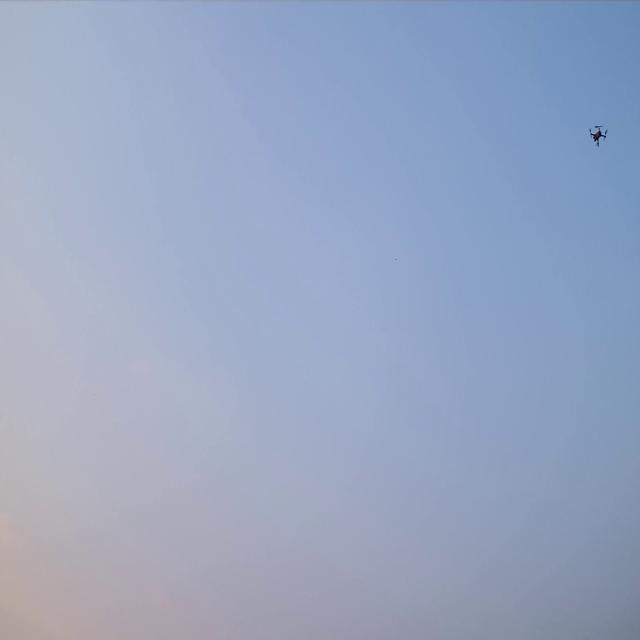UAV: (590, 126, 606, 145)
